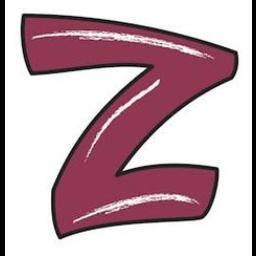z: (15, 9, 243, 245)
